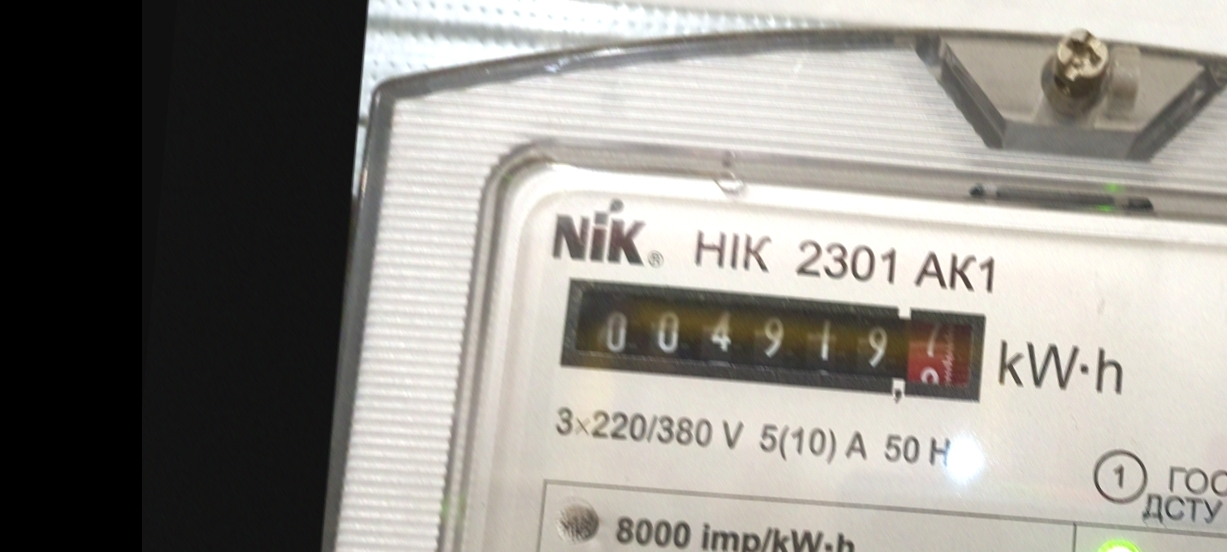0: (655, 308, 685, 356), (604, 309, 631, 354)
1: (817, 317, 836, 363)
4: (708, 308, 736, 353)
7: (919, 319, 945, 360)
9: (864, 323, 891, 372), (761, 316, 788, 361)
screen: (548, 264, 1006, 422)
